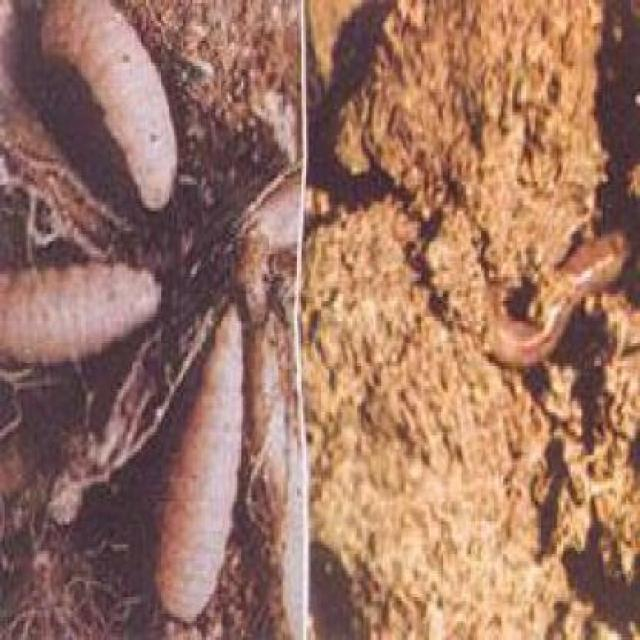whorl-maggot: (30, 0, 176, 213), (155, 309, 243, 624), (0, 266, 165, 361)
